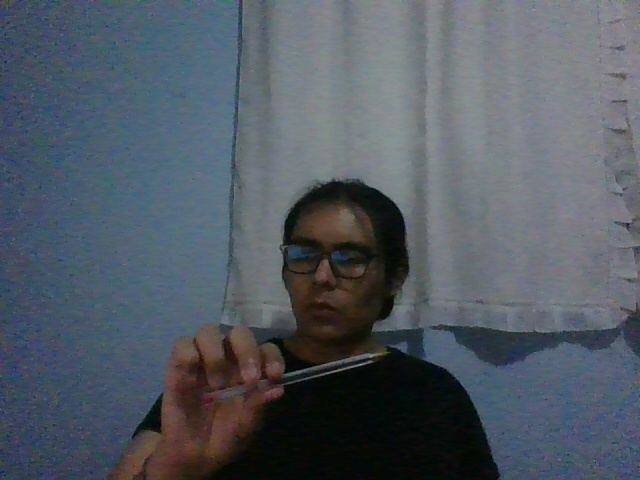pluma: (201, 351, 391, 404)
